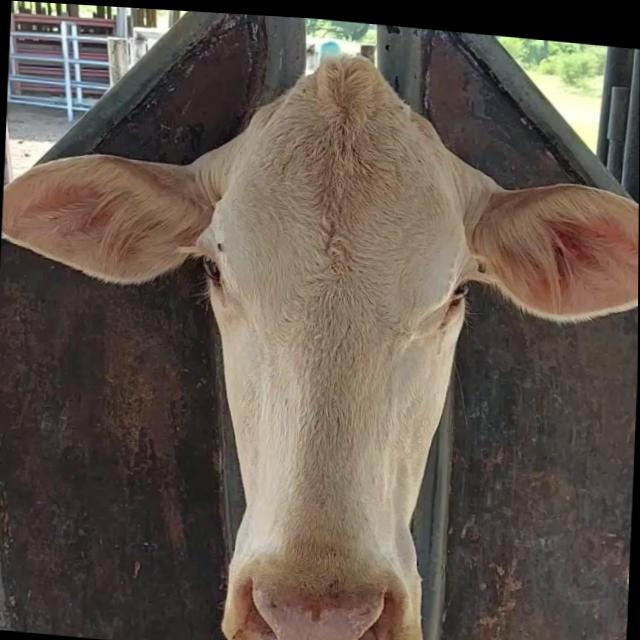cowFace: (186, 40, 484, 640)
